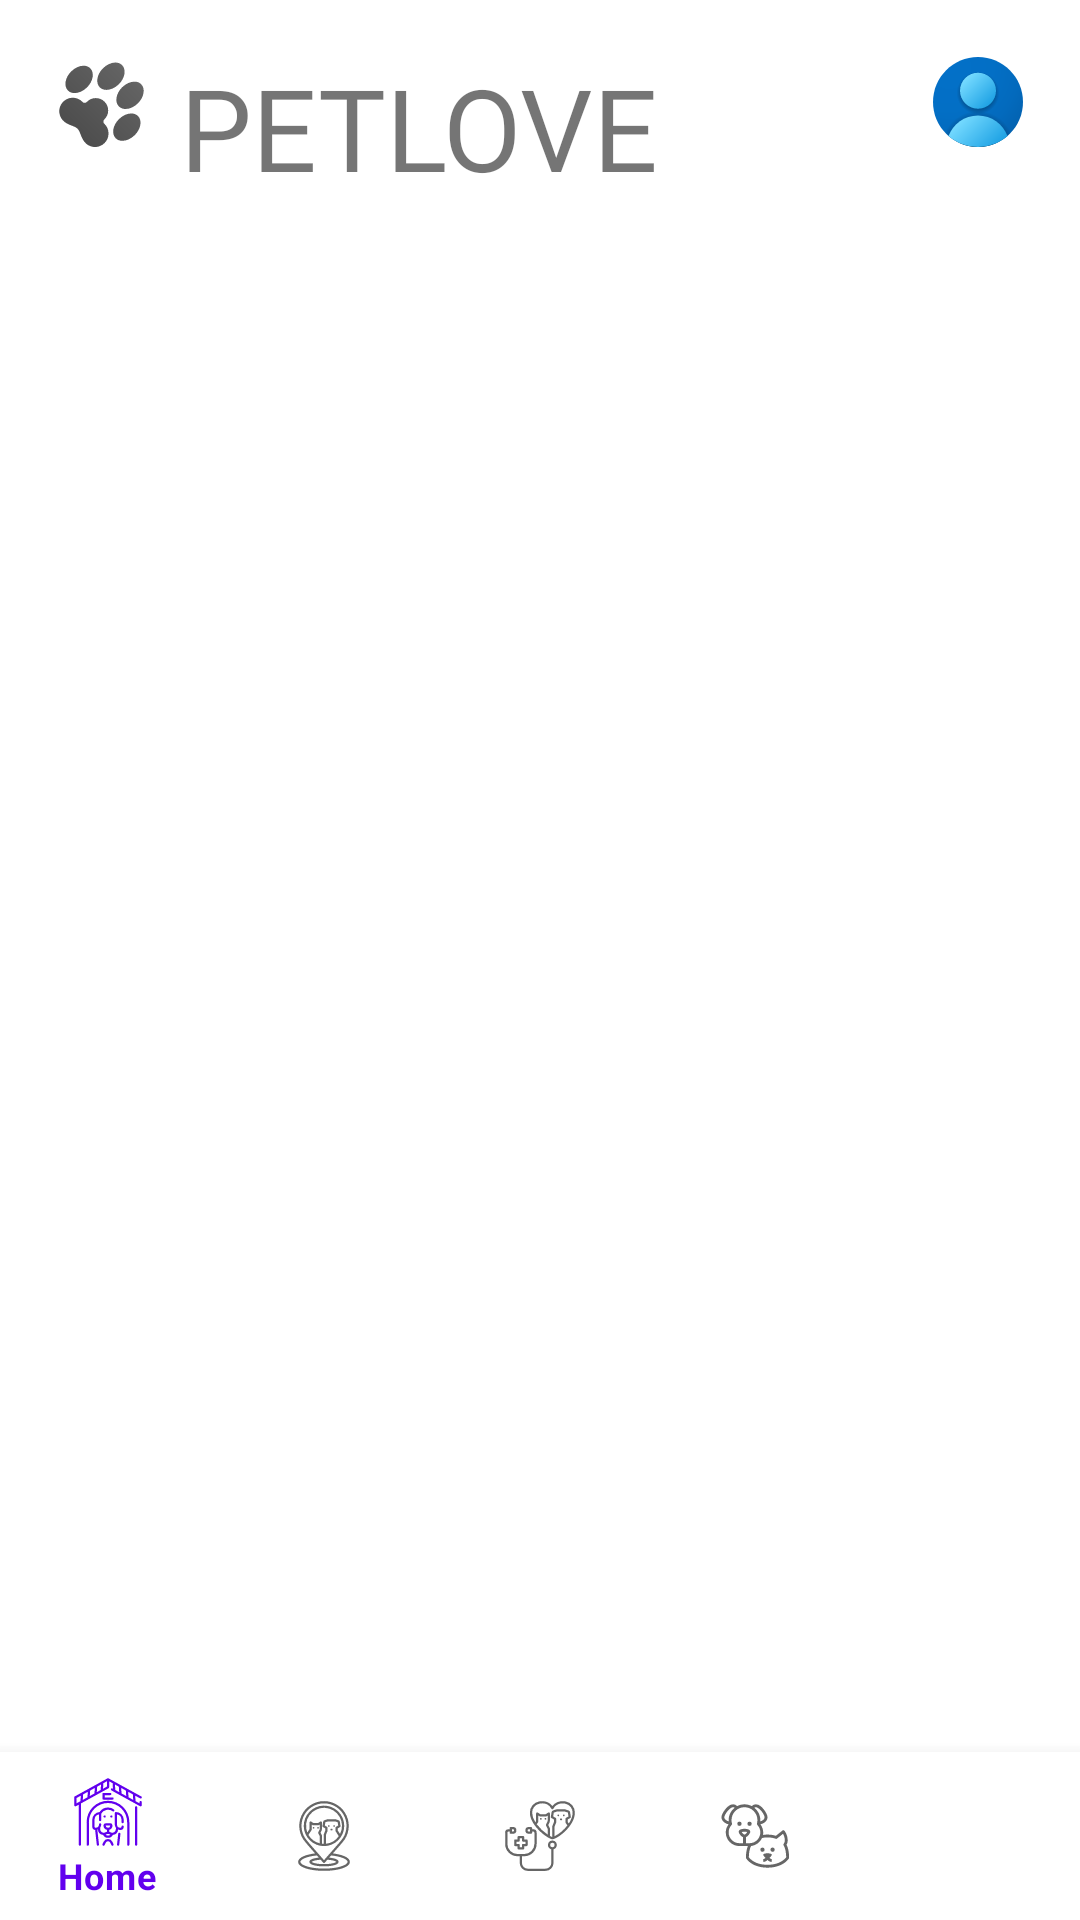

Where icons sit on this 1080*1920 app screen, as (x1, y1, x2, y2):
profile: (933, 57, 1023, 147)
